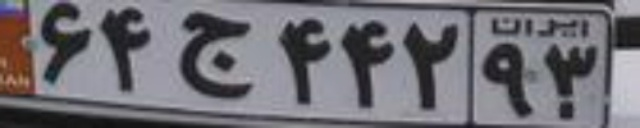2: (400, 19, 453, 111)
3: (541, 42, 602, 119)
4: (274, 18, 332, 105), (339, 19, 395, 108), (101, 6, 151, 92)
6: (38, 2, 90, 84)
9: (481, 40, 530, 117)
jim: (177, 12, 252, 97)
